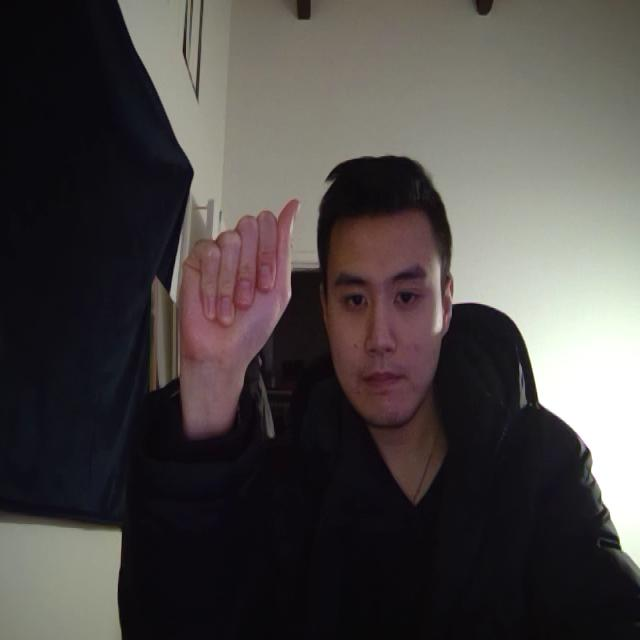A: (154, 175, 335, 436)
